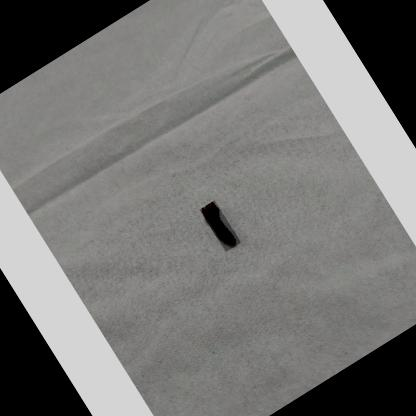sedang: (202, 202, 238, 246)
